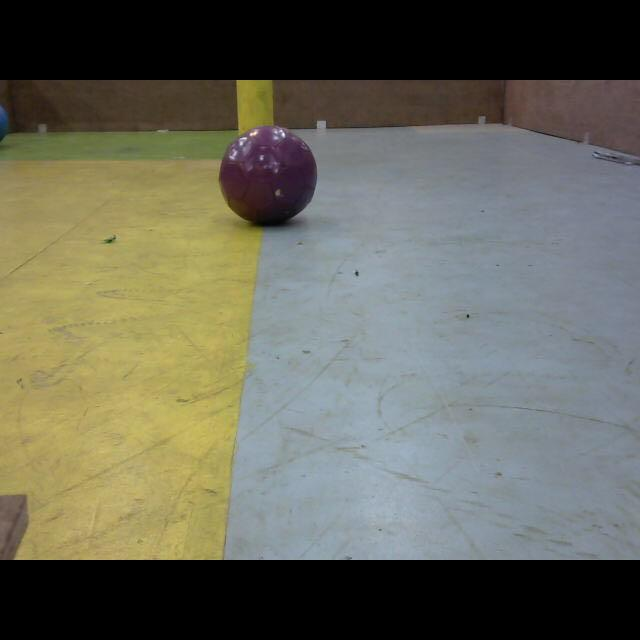P: (217, 124, 319, 226)
